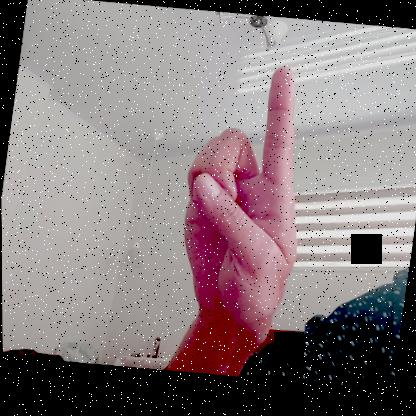D: (168, 53, 323, 333)
